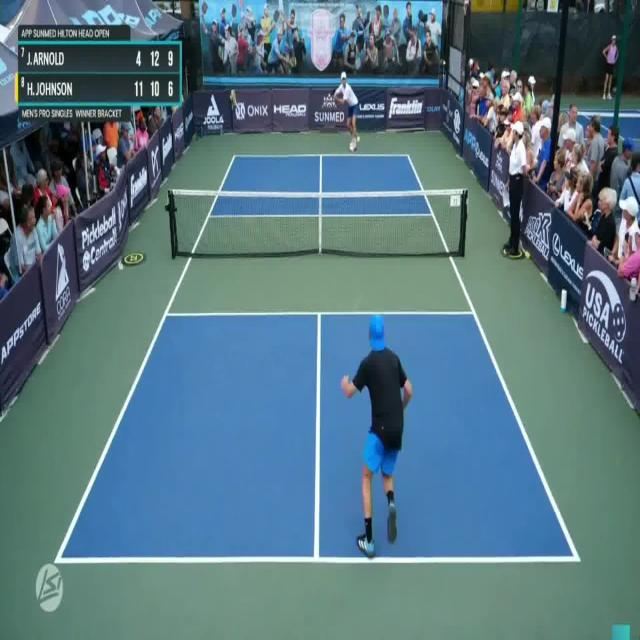ball: (357, 136, 360, 142)
